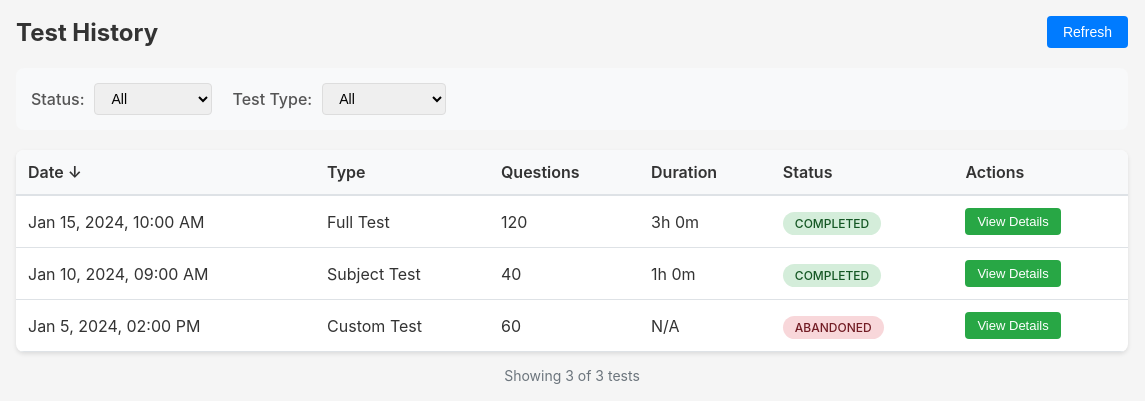
Test: TestHistoryList › should sort by date
Expected: the text "Showing 3 of 3 tests" is shown, [504,367,640,384]
Note: Click date header to sort
Click the column heading "Date ↓": click(166, 172) [16,150,315,195]
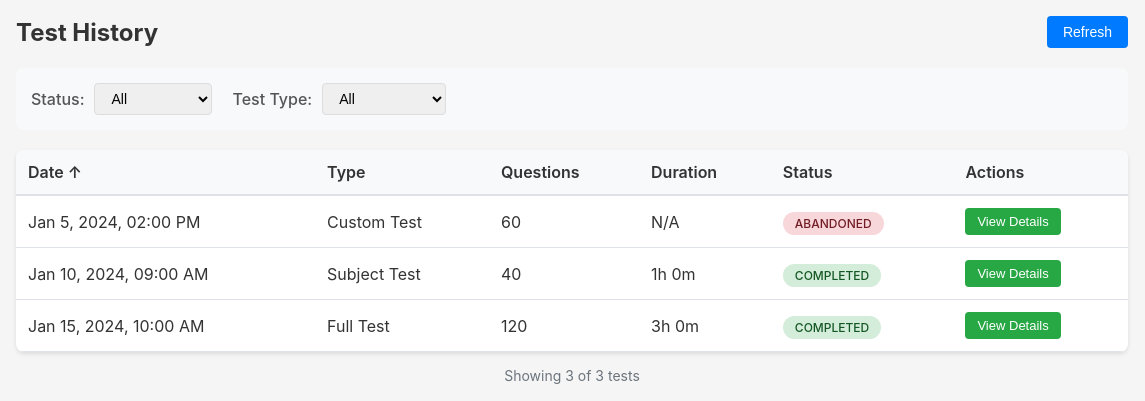
Result: the column heading "Date ↑" is shown at [16,150,315,195]
